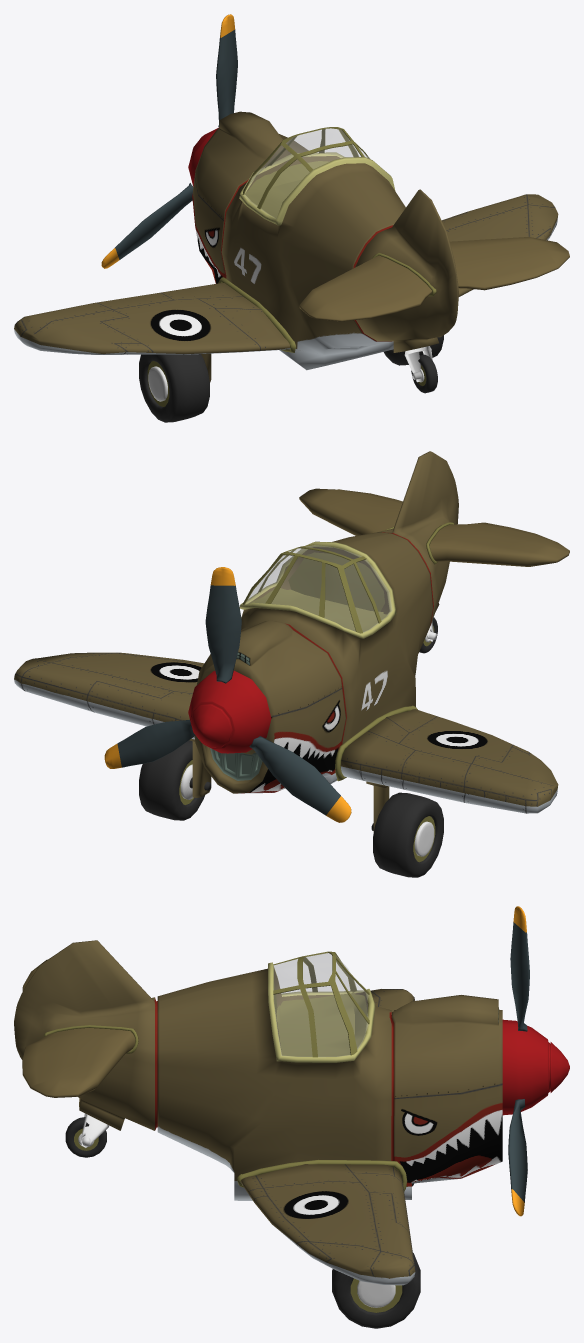
File: airplane.gltf
3 views of the same model, one above another, from view 1: azimuth 30°, elevation 25°; view 2: azimuth 150°, elevation 25°; view 3: azimuth 270°, elevation 25° (orthographic). The views are drawn at different scales.
Parts seen in each view (by area): view 1: body, wings, tailWings, wheels, windows.001, propeller.001, windows, wheels.001, wingRings; view 2: body, wings, propeller.001, tailWings, wheels, windows, windows.001, propeller, wheels.001, wingRings; view 3: body, wings, windows.001, windows, tailWings, propeller, propeller.001, wheels, wingRings, wheels.001, wheels.002.
Boxes of the visible parts, x1=… form: body: x1=192, y1=111, x2=458, y2=370; wings: x1=14, y1=194, x2=558, y2=382; tailWings: x1=299, y1=237, x2=569, y2=321; wheels: x1=139, y1=335, x2=443, y2=422; windows.001: x1=244, y1=128, x2=369, y2=217; propeller.001: x1=101, y1=14, x2=237, y2=268; windows: x1=242, y1=127, x2=369, y2=217; wheels.001: x1=148, y1=366, x2=424, y2=401; wingRings: x1=218, y1=277, x2=295, y2=352; body: x1=194, y1=451, x2=458, y2=793; wings: x1=14, y1=652, x2=558, y2=832; propeller.001: x1=104, y1=567, x2=351, y2=822; tailWings: x1=299, y1=488, x2=569, y2=566; wheels: x1=139, y1=617, x2=443, y2=877; windows: x1=242, y1=544, x2=386, y2=633; windows.001: x1=246, y1=545, x2=392, y2=632; propeller: x1=188, y1=670, x2=271, y2=753; wheels.001: x1=180, y1=628, x2=436, y2=856; wingRings: x1=335, y1=705, x2=417, y2=781; body: x1=14, y1=940, x2=502, y2=1200; wings: x1=240, y1=989, x2=415, y2=1285; windows.001: x1=273, y1=953, x2=368, y2=1056; windows: x1=273, y1=951, x2=369, y2=1057; tailWings: x1=22, y1=959, x2=135, y2=1097; propeller: x1=502, y1=1019, x2=569, y2=1115; propeller.001: x1=508, y1=906, x2=529, y2=1216; wheels: x1=65, y1=1117, x2=420, y2=1328; wingRings: x1=237, y1=1159, x2=407, y2=1191; wheels.001: x1=78, y1=1132, x2=395, y2=1307; wheels.002: x1=74, y1=1128, x2=402, y2=1312.
Bounding box in the file's own units: 5.33 × 3.12 × 4.45.
Materials: 9 (3 with a texture image).
